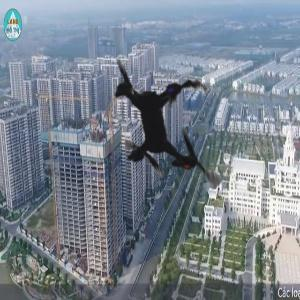drone: (45, 8, 282, 245)
